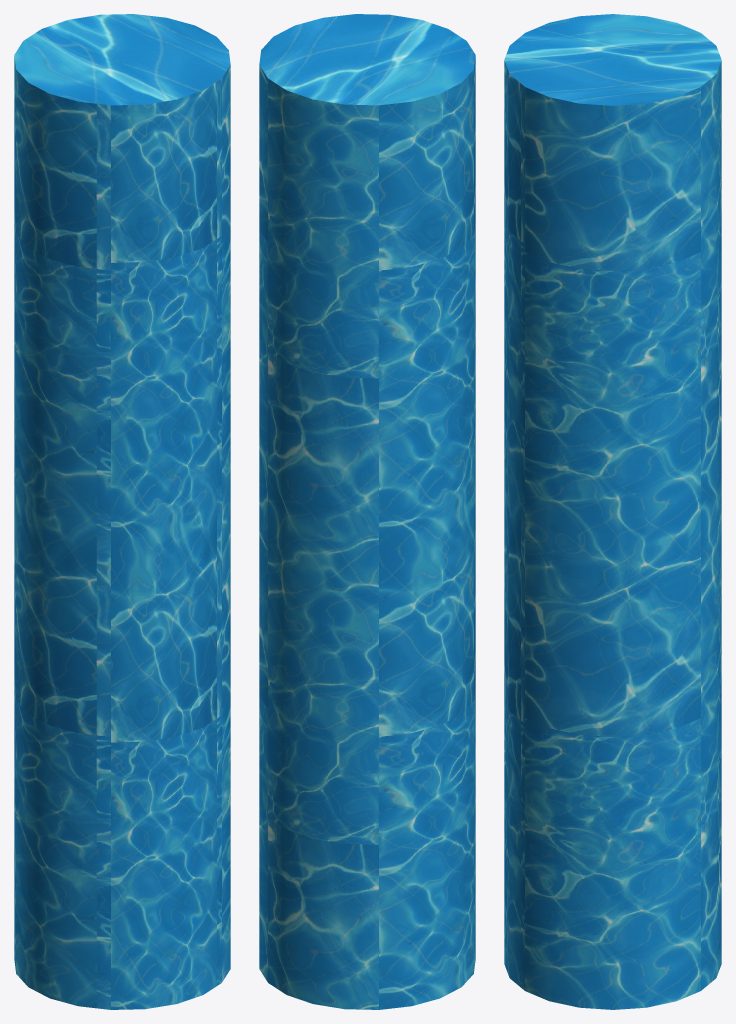
File: shader.fbx
The picture shows the model from 3 angles, left to right: view 1: azimuth 30°, elevation 25°; view 2: azimuth 150°, elevation 25°; view 3: azimuth 270°, elevation 25°; orthographic projection.
Parts seen in each view (by area): view 1: pCylinder1; view 2: pCylinder1; view 3: pCylinder1.
Boxes of the visible parts, left/top/right/bottom form: pCylinder1: left=14, top=14, right=230, bottom=1009; pCylinder1: left=259, top=14, right=475, bottom=1009; pCylinder1: left=504, top=14, right=721, bottom=1009.
Bounding box in the file's own units: 2 × 9.18 × 2.
